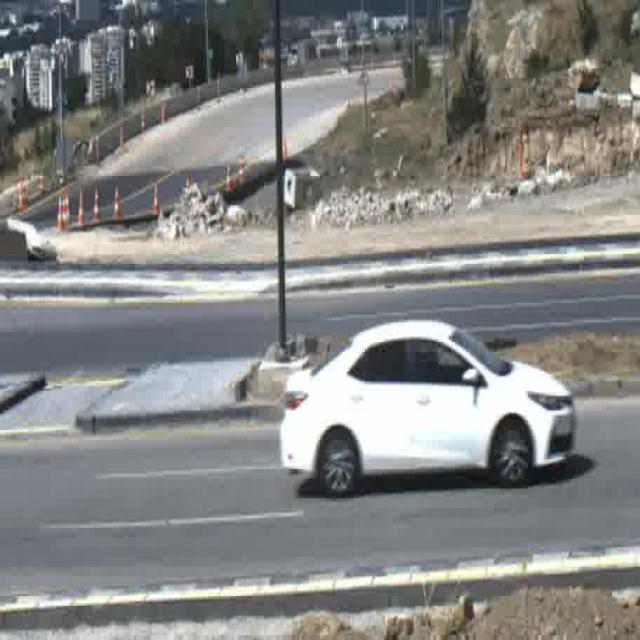Car: (281, 318, 574, 495)
